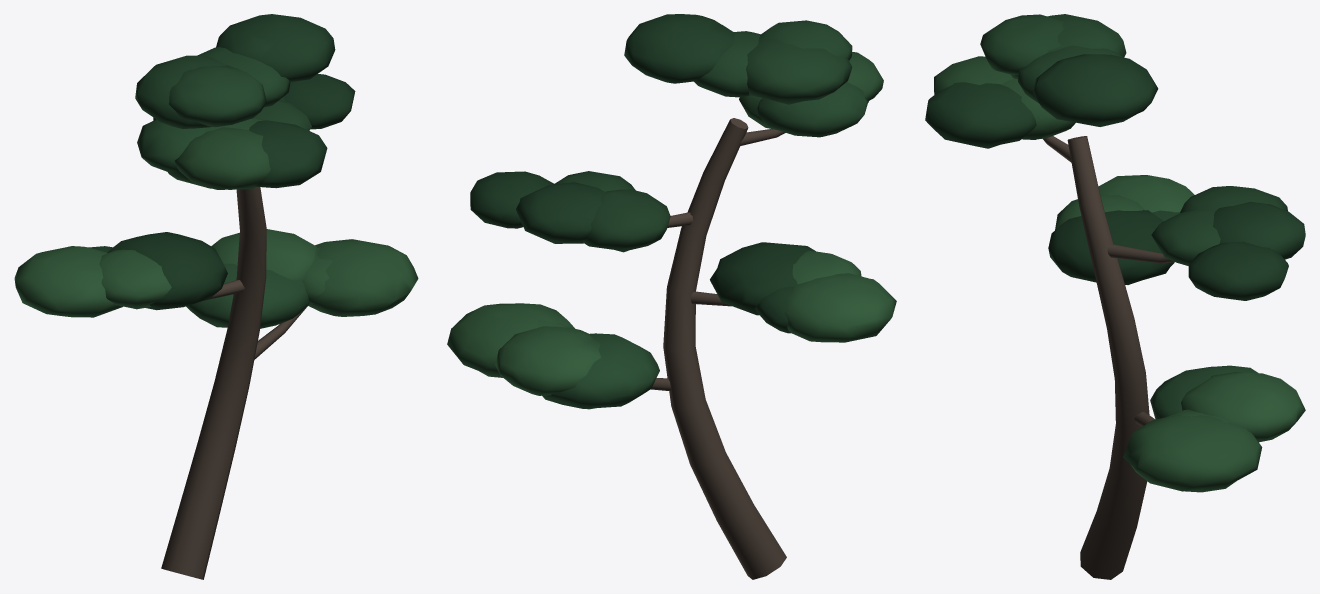
The model's file is tree_pine.glb.
3 renders of one model, left to right at view 1: azimuth 30°, elevation 25°; view 2: azimuth 150°, elevation 25°; view 3: azimuth 270°, elevation 25°, orthographic. The views are drawn at different scales.
Visible parts, largest first — view 1: crown, trunk; view 2: crown, trunk; view 3: crown, trunk.
Part boxes in pixels (left/top/right/bottom): crown: left=14, top=14, right=418, bottom=328; trunk: left=161, top=186, right=307, bottom=579; crown: left=447, top=14, right=896, bottom=409; trunk: left=651, top=118, right=786, bottom=579; crown: left=925, top=14, right=1305, bottom=492; trunk: left=1042, top=136, right=1174, bottom=579.
Bounding box in the file's own units: 4.57 × 5.71 × 3.57.
